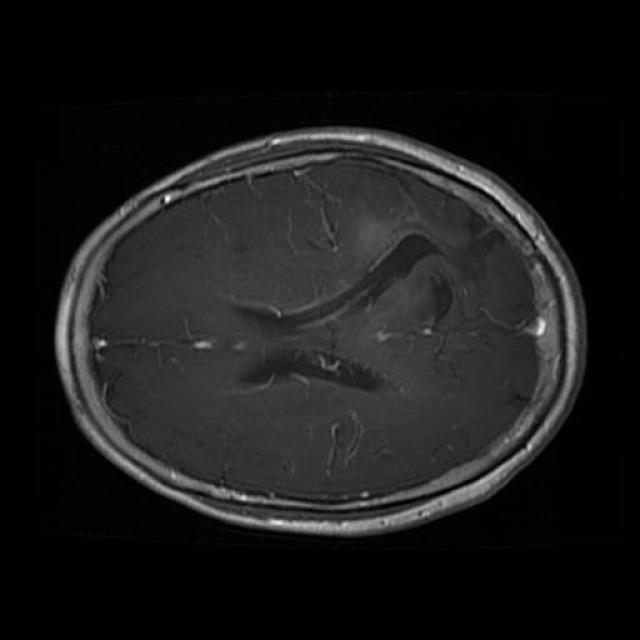Glioma: (350, 192, 501, 340)
